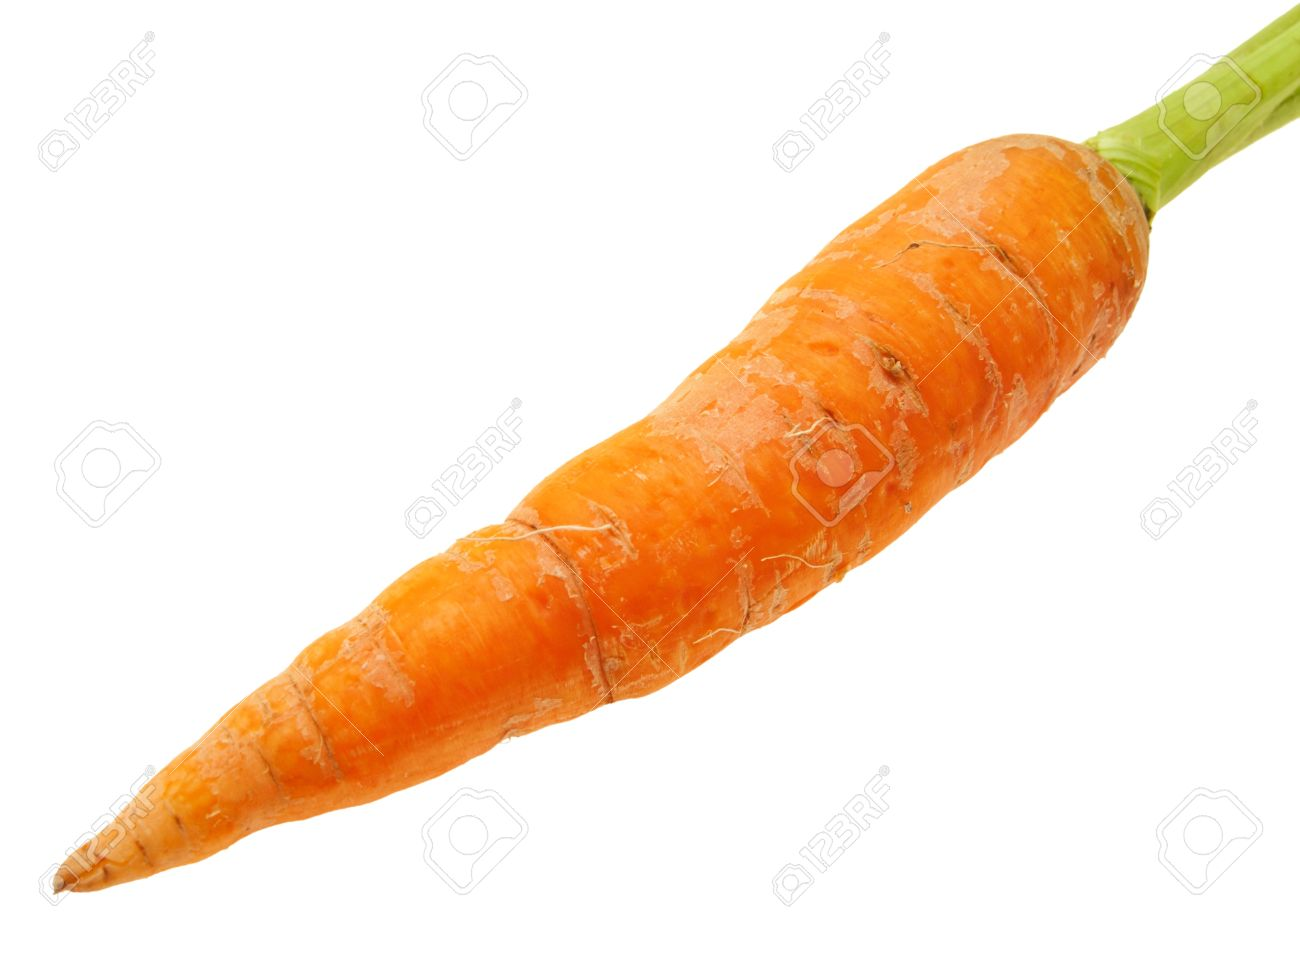carrot: (50, 46, 1217, 919)
